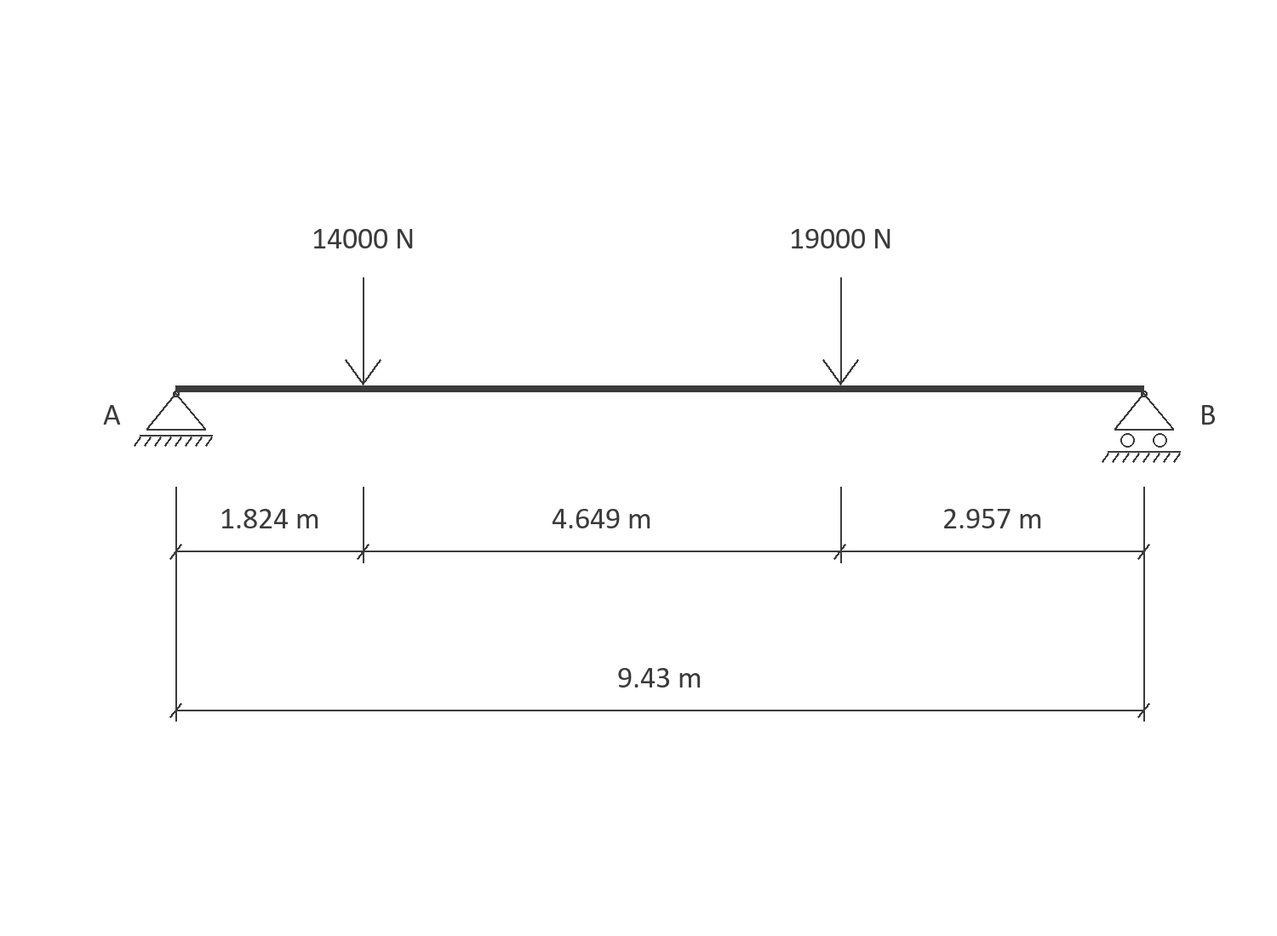pin_support: (134, 391, 213, 447)
point_load: (822, 277, 859, 385), (345, 277, 381, 385)
roller_support: (1102, 391, 1181, 463)
